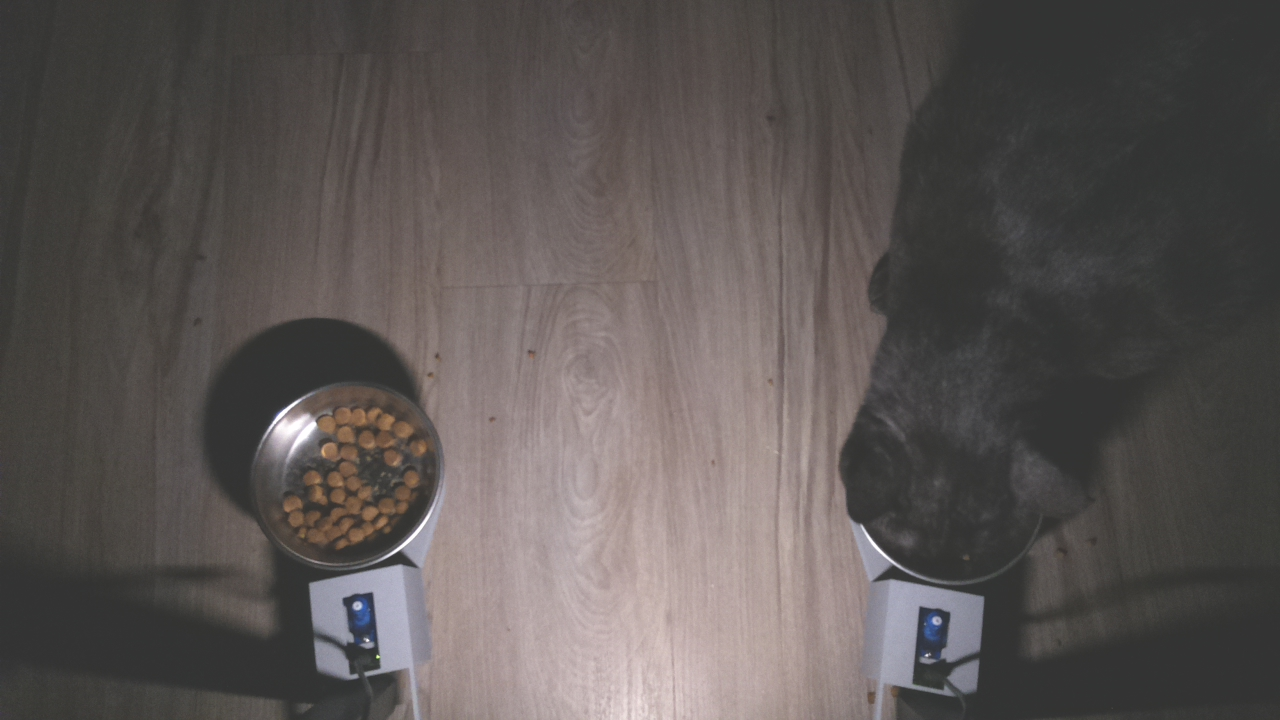open_bowl: (247, 377, 451, 576)
saki_eating: (836, 330, 1098, 589)
